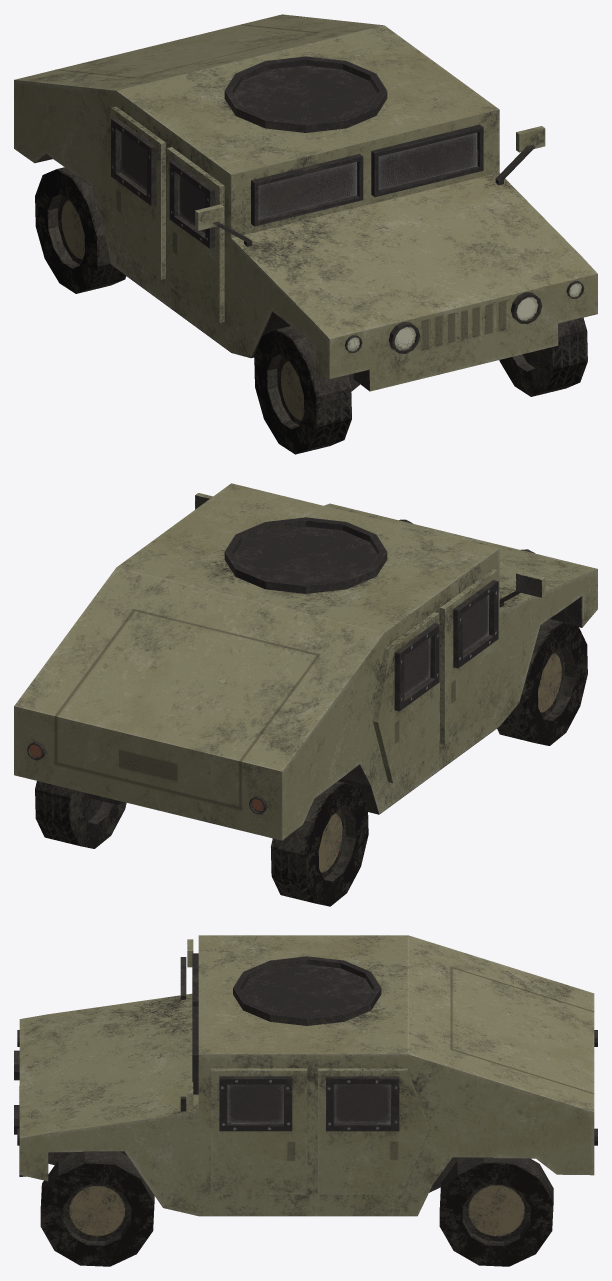
Rendered from hmv_desert.fbx.
3 renders of one model, top to bottom at view 1: azimuth 30°, elevation 25°; view 2: azimuth 150°, elevation 25°; view 3: azimuth 270°, elevation 25°, orthographic. The views are drawn at different scales.
Visible parts, largest first — view 1: desert_hmv; view 2: desert_hmv; view 3: desert_hmv.
Boxes of the visible parts, x1,y1,x2,y2 form: desert_hmv: (14,14,597,454); desert_hmv: (14,483,597,906); desert_hmv: (14,935,597,1266).
Size of the model in its own units: 253 by 168 by 406.
1 material, 1 textured.
